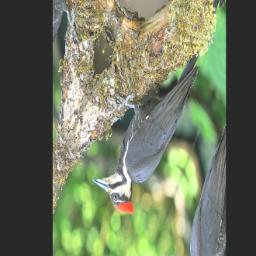Woodpecker: (85, 0, 209, 249)
